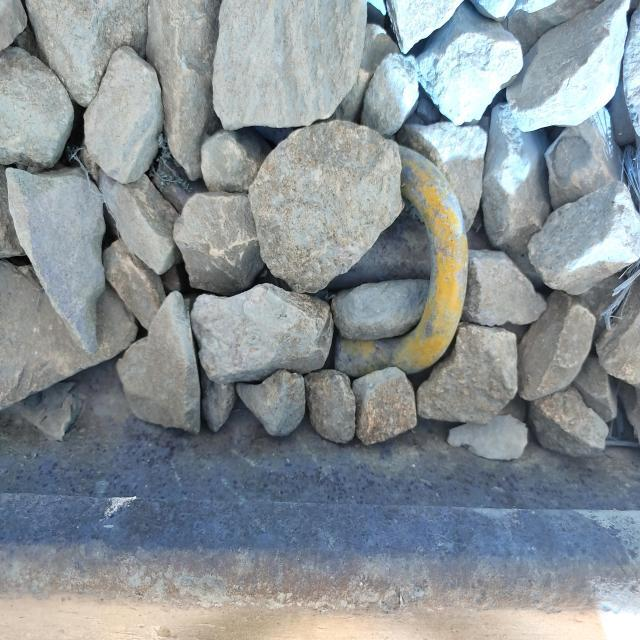Good Fasteners: (326, 146, 468, 375)
